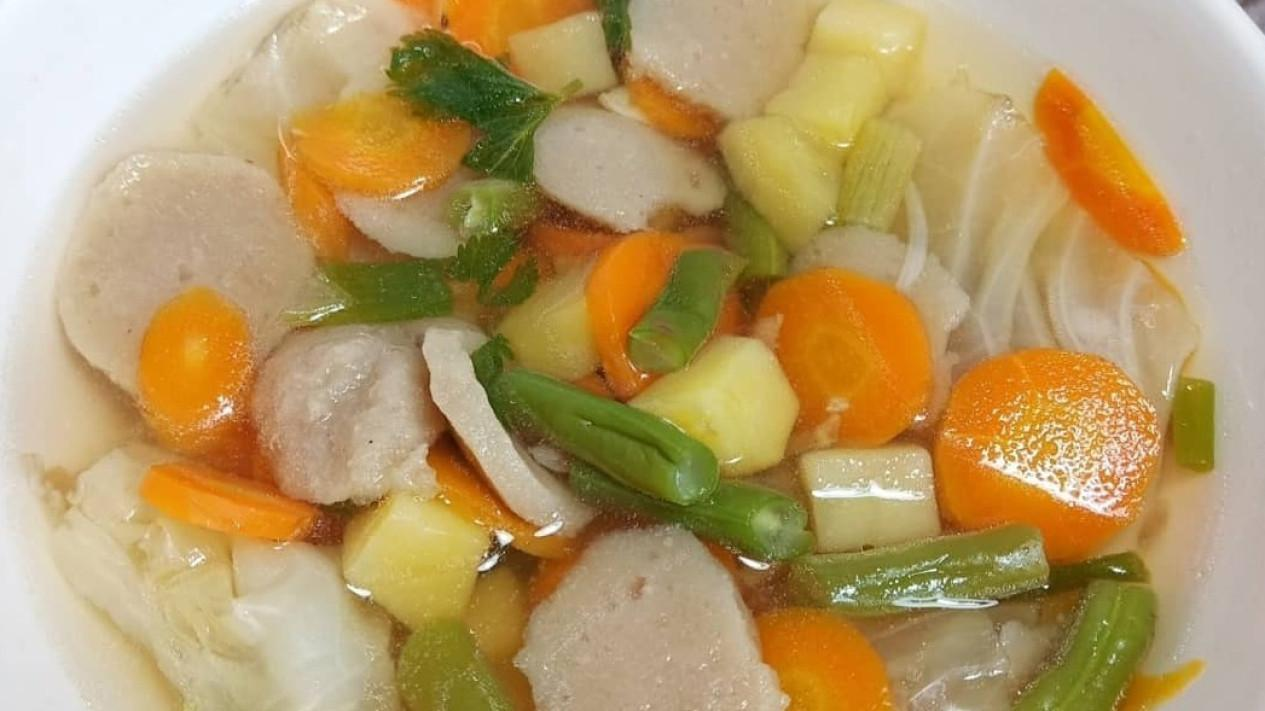buah_sayur_vitA: (957, 359, 1132, 530), (799, 295, 916, 436), (160, 315, 228, 422)
daging: (583, 572, 699, 711), (290, 355, 392, 469)
